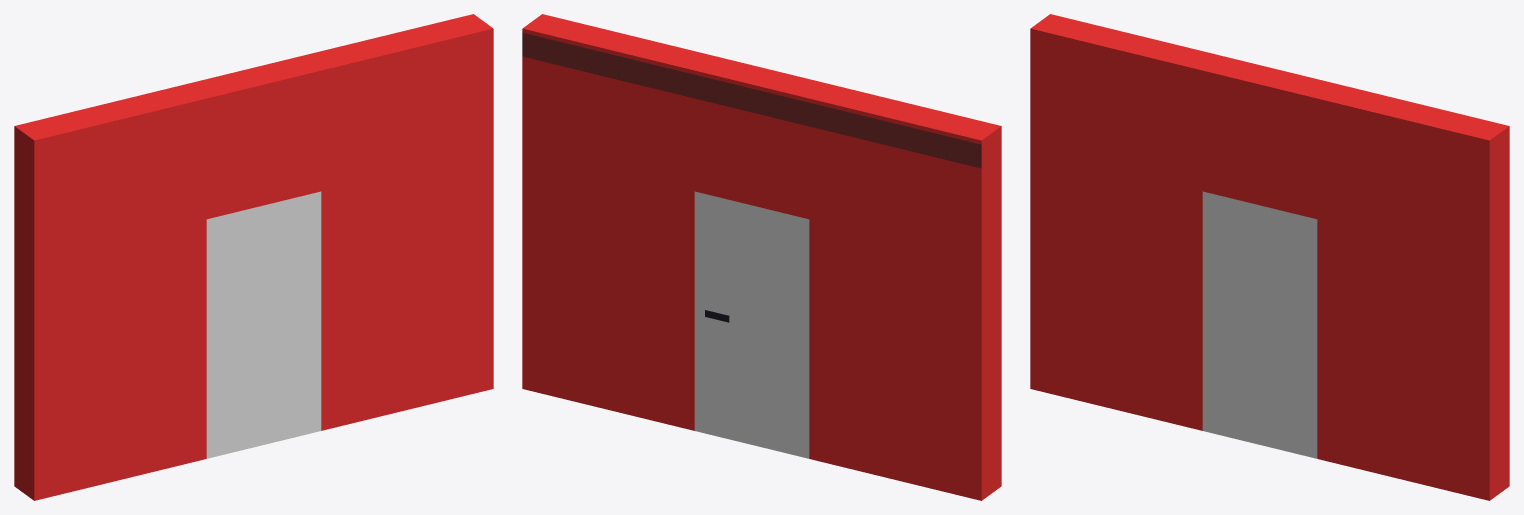
File: b1.wall-door.fbx
The picture shows the model from 3 angles, left to right: view 1: azimuth 30°, elevation 25°; view 2: azimuth 150°, elevation 25°; view 3: azimuth 330°, elevation 25°; orthographic projection.
Parts seen in each view (by area): view 1: b1 wall door, door; view 2: b1 wall door, door; view 3: b1 wall door, door.
Part boxes in pixels (x1=…): b1 wall door: x1=14, y1=14, x2=493, y2=500; door: x1=206, y1=191, x2=321, y2=458; b1 wall door: x1=522, y1=14, x2=1001, y2=500; door: x1=694, y1=191, x2=809, y2=458; b1 wall door: x1=1030, y1=14, x2=1509, y2=500; door: x1=1202, y1=191, x2=1317, y2=458.
Bounding box in the file's own units: 4 × 3 × 0.3001.
